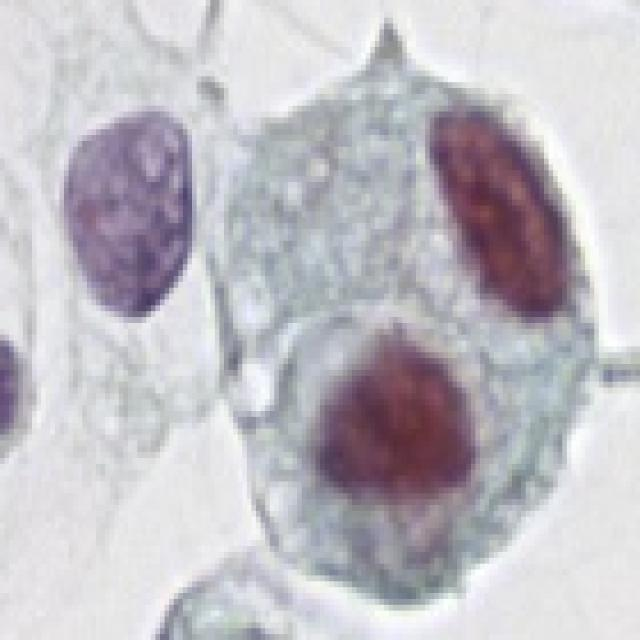nucleus: (289, 308, 492, 516), (418, 88, 582, 333)
